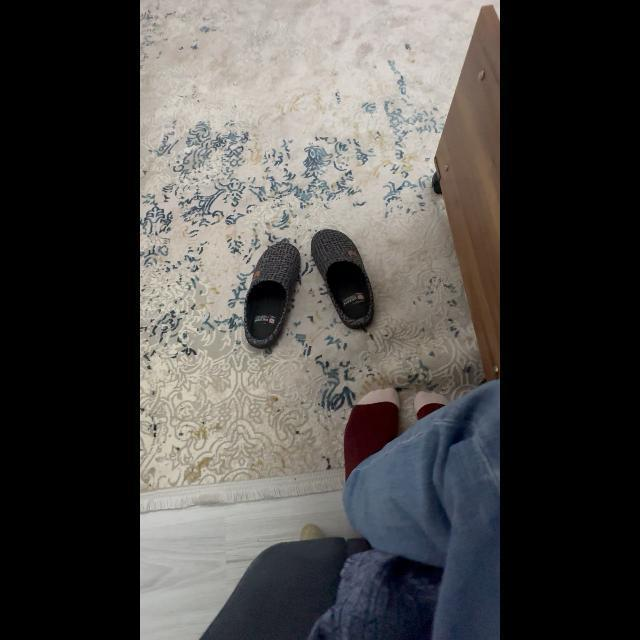slipper: (304, 218, 384, 336), (236, 230, 308, 358)
